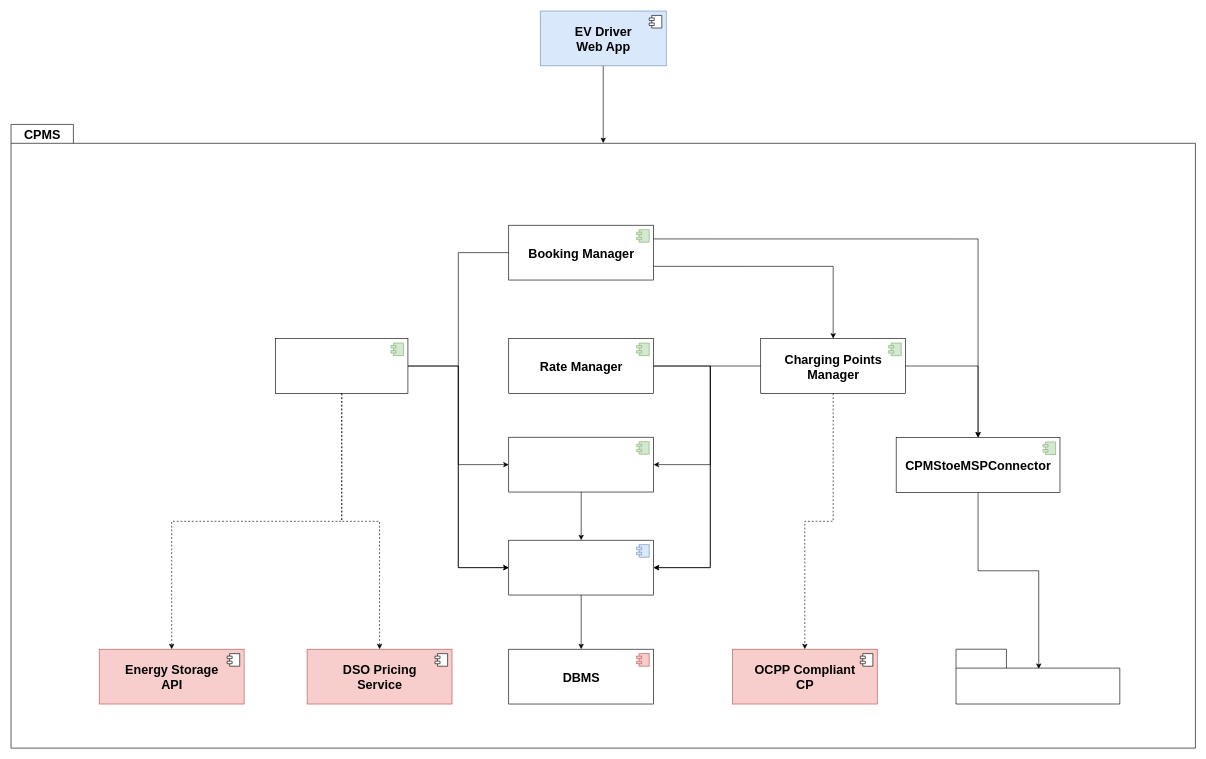
The diagram is 1206 pixels wide and 759 high, and some of its shapes have lost their labels. The centre of each missing label's shape, as x and y in pixels:
Account Manager: the point at 581,464
Energy Manager: the point at 341,365
Query Manager: the point at 581,567
Stub eMSP: the point at 1037,676
